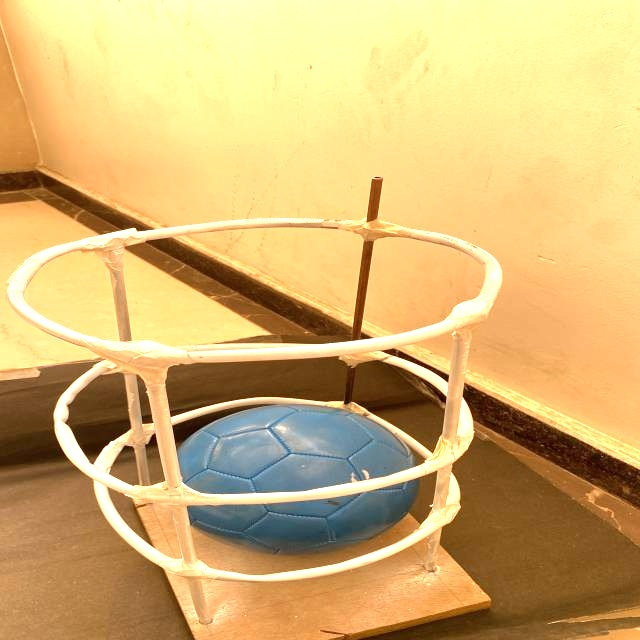blue_ball: (175, 407, 424, 550)
silo: (11, 209, 498, 640)
